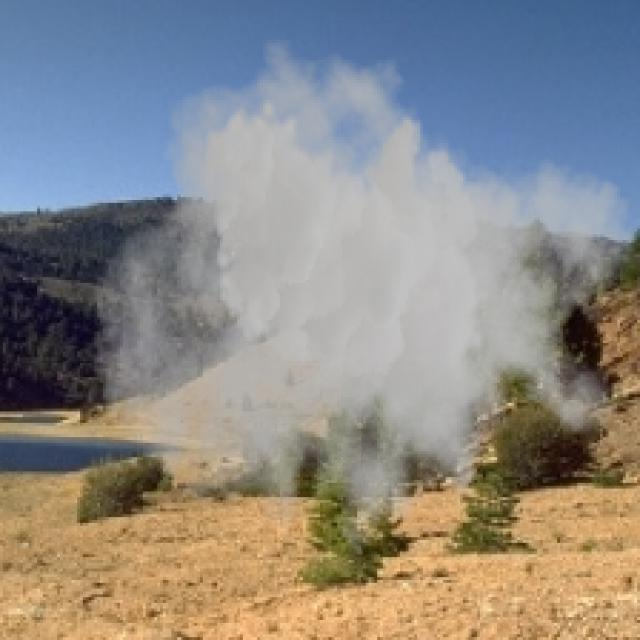smoke: (92, 37, 637, 586)
